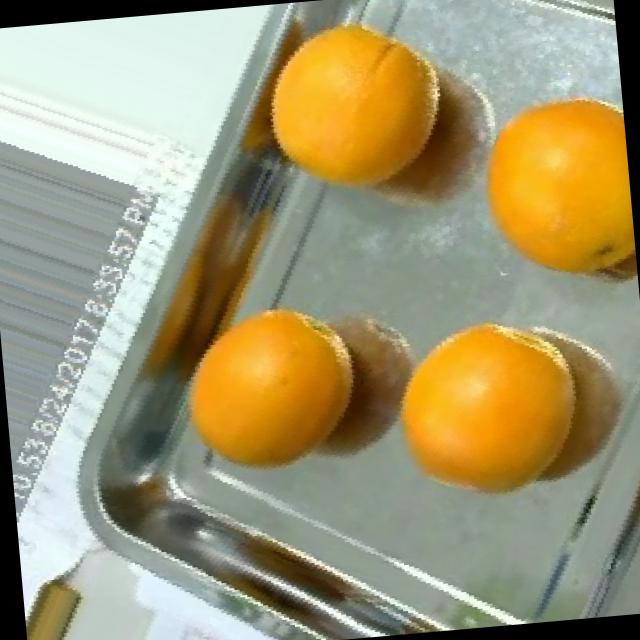Fruit: (168, 274, 399, 494), (460, 73, 636, 270)
